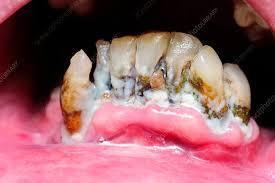Spaced: (3, 58, 62, 143)
